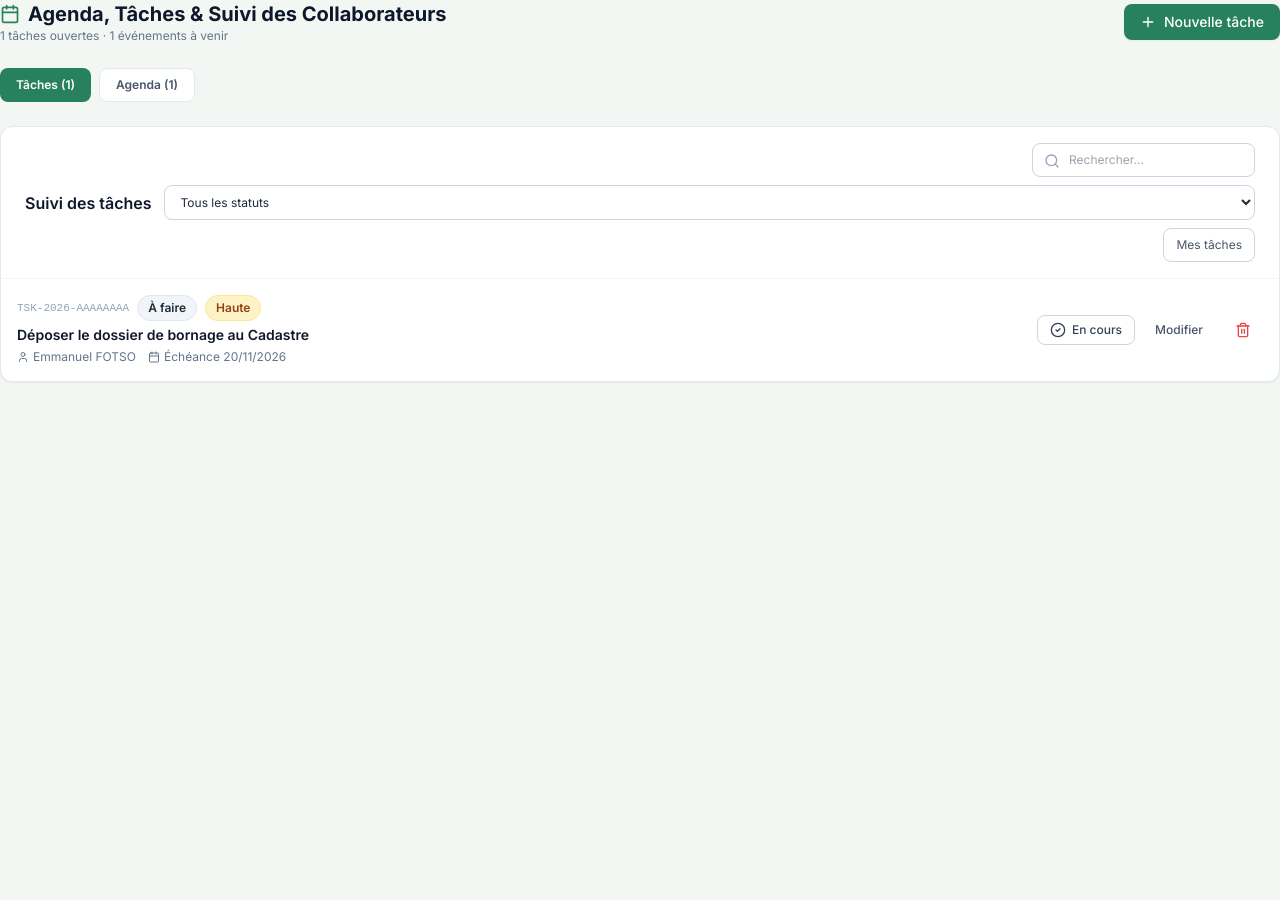
Test: TasksPage en mode connecté › refuse un créneau dont la fin précède le début sans écrire en base
Expected: the text "TSK-2026-AAAAAAAA" is shown, [17,300,129,316]
Click the button "Agenda (1)" at (147, 85), box [99,68,195,102]
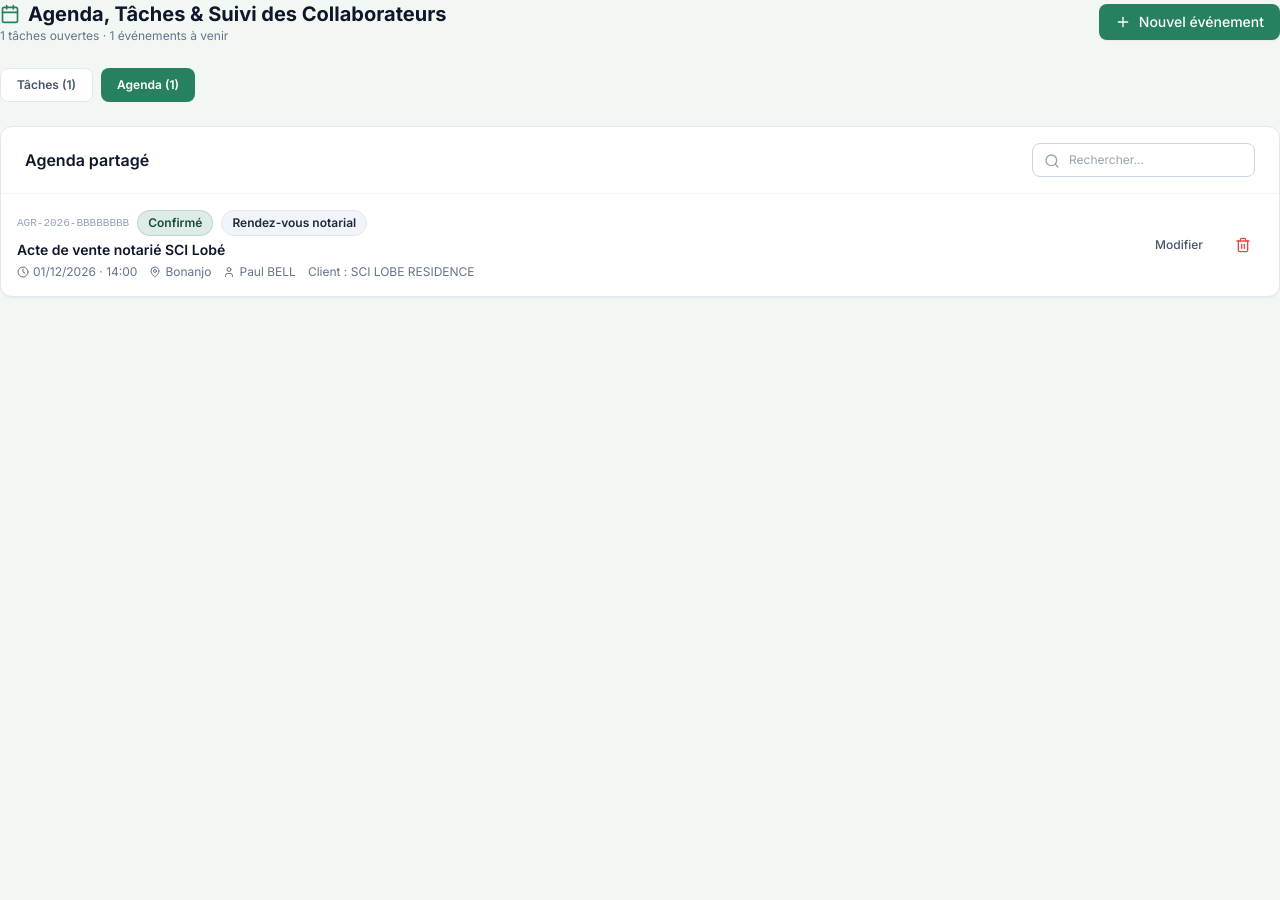
Expected: the text "AGR-2026-BBBBBBBB" is shown, [17,215,129,231]
Click the button "Nouvel événement" at (1189, 22), box [1099,4,1279,40]
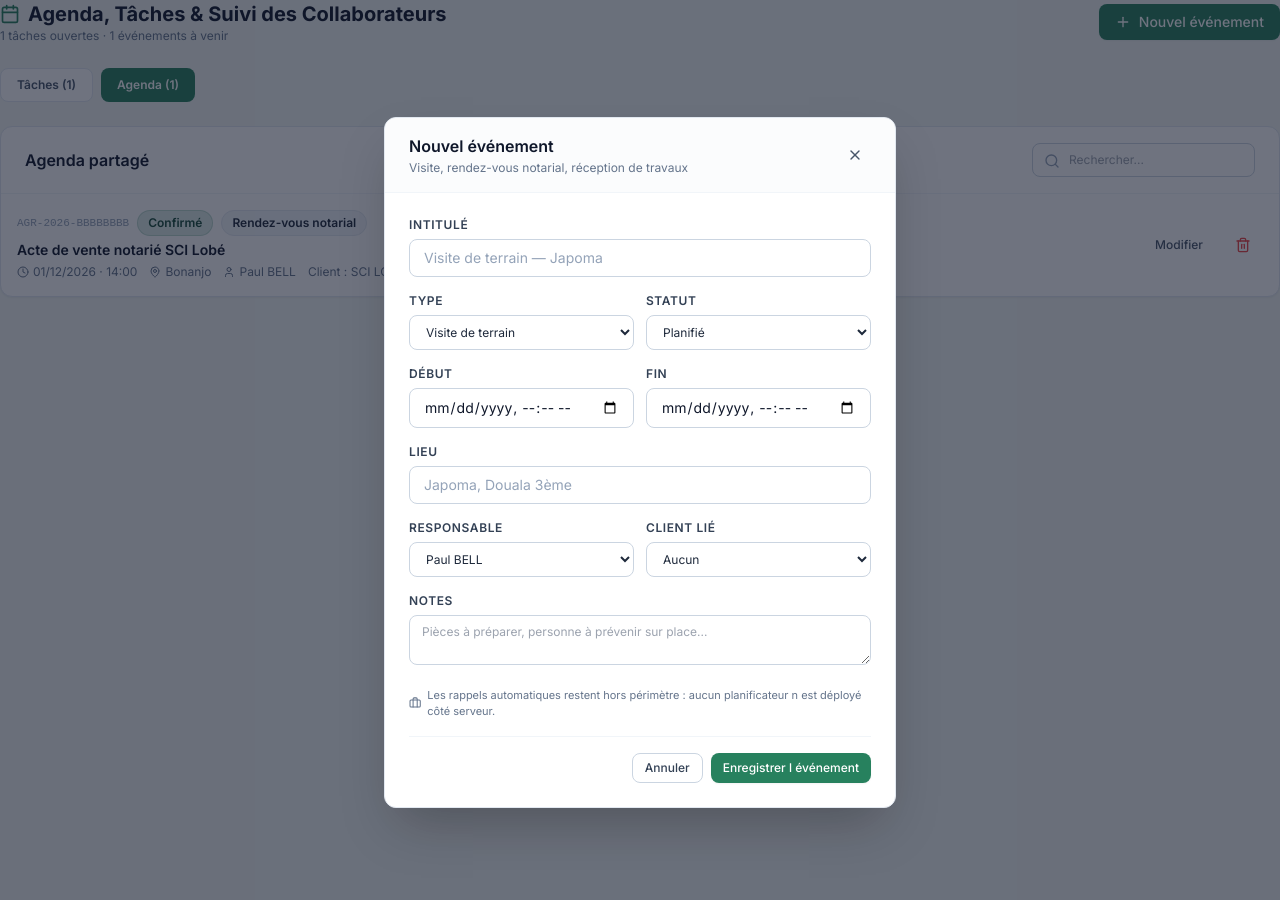
Type "Créneau incohérent" into the field with placeholder "Visite de terrain — Japoma" at (640, 258), box [409,238,871,276]
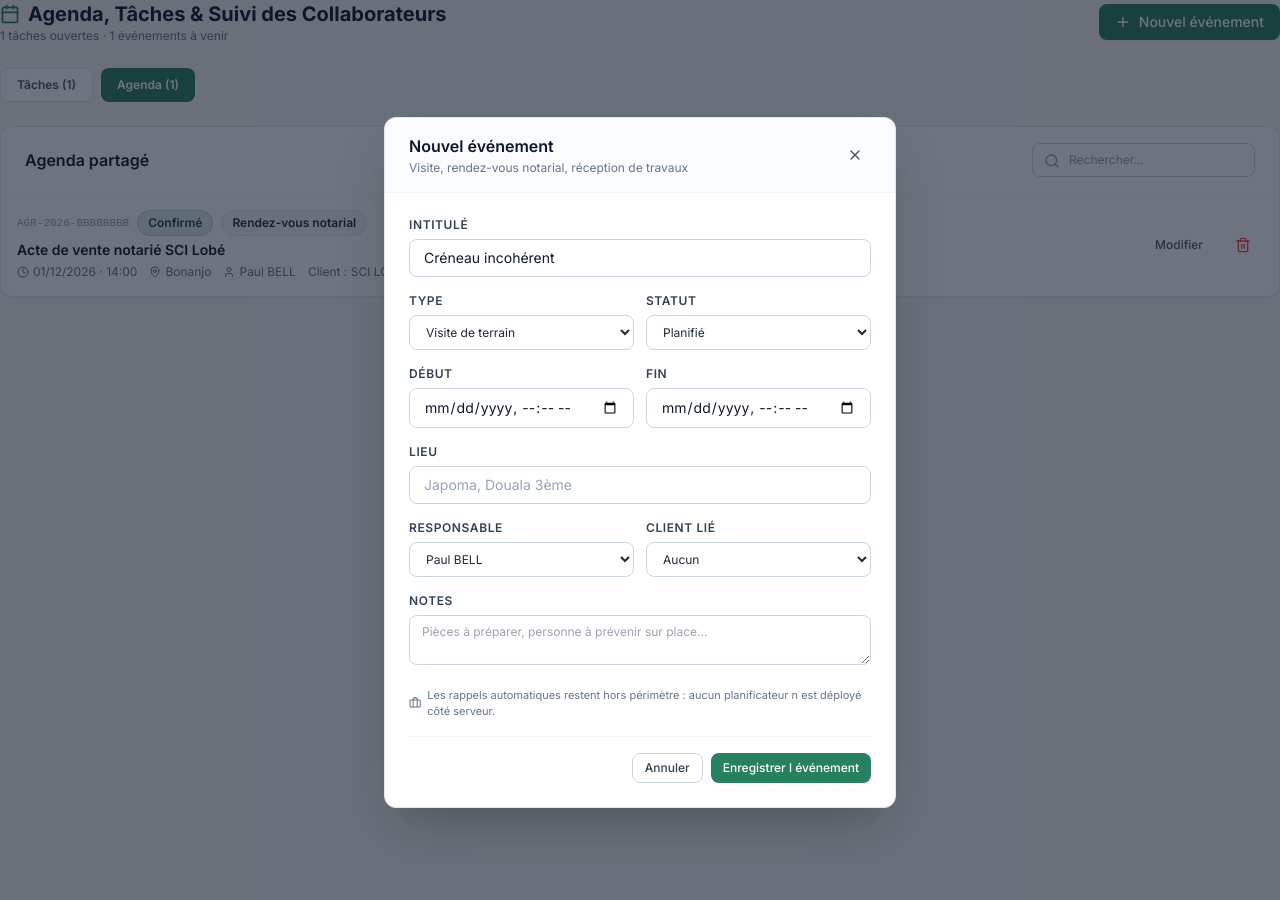
Type "2026-12-05T10:00" into the field labelled "Début" at (522, 408), box [409,388,634,428]
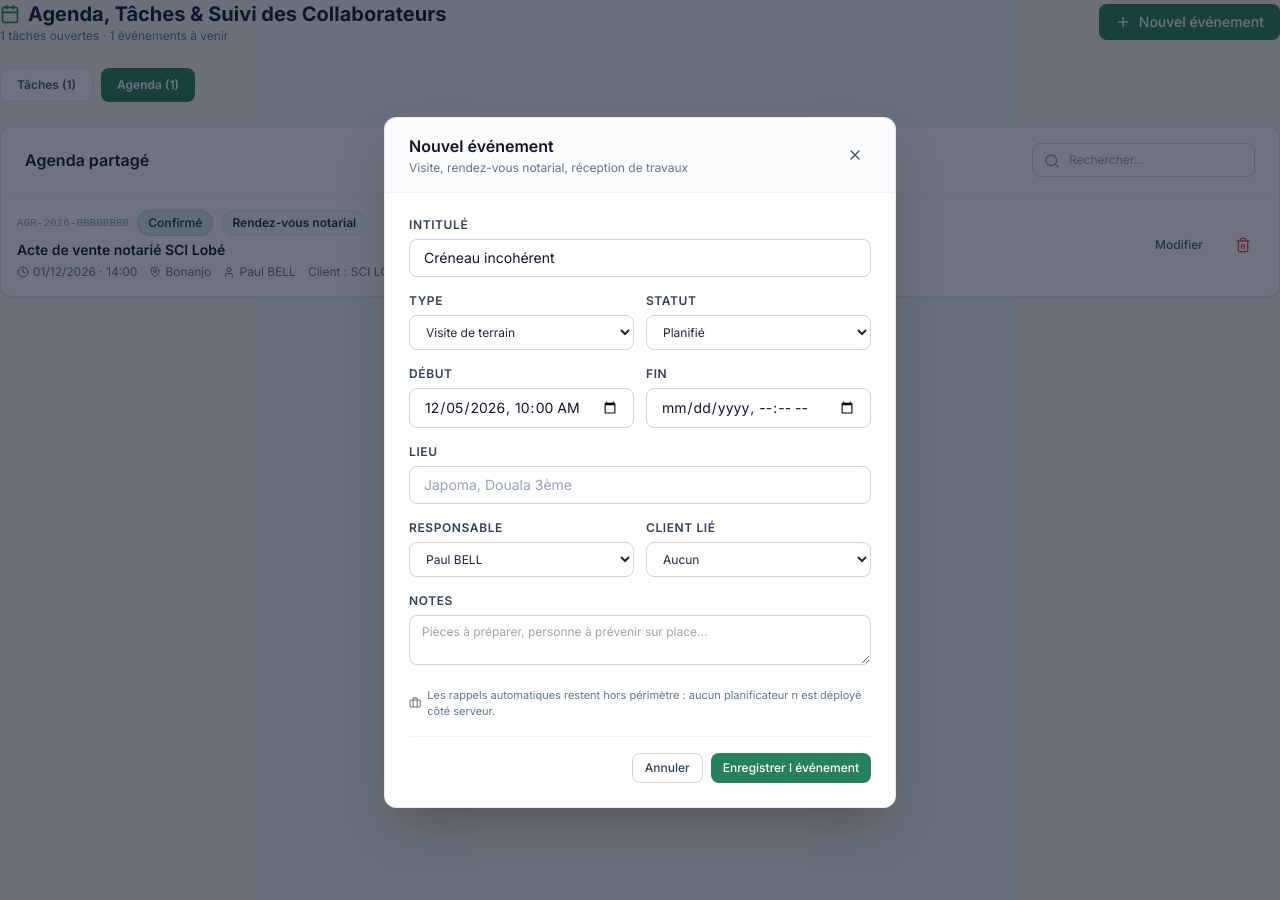
Type "2026-12-05T09:00" into the field labelled "Fin" at (758, 408), box [646,388,871,428]
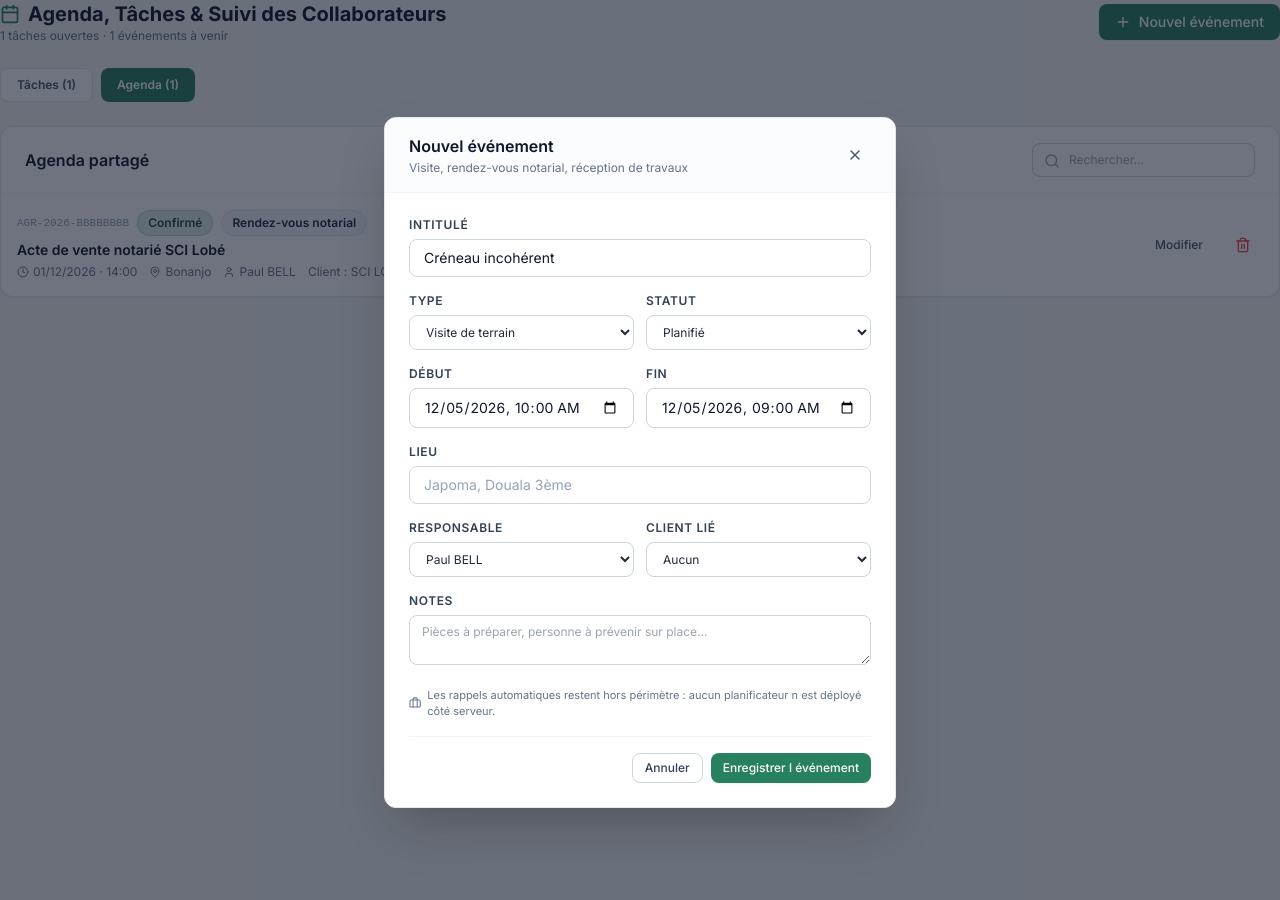
Click the button "Enregistrer l événement" at (791, 768), box [711,752,871,782]
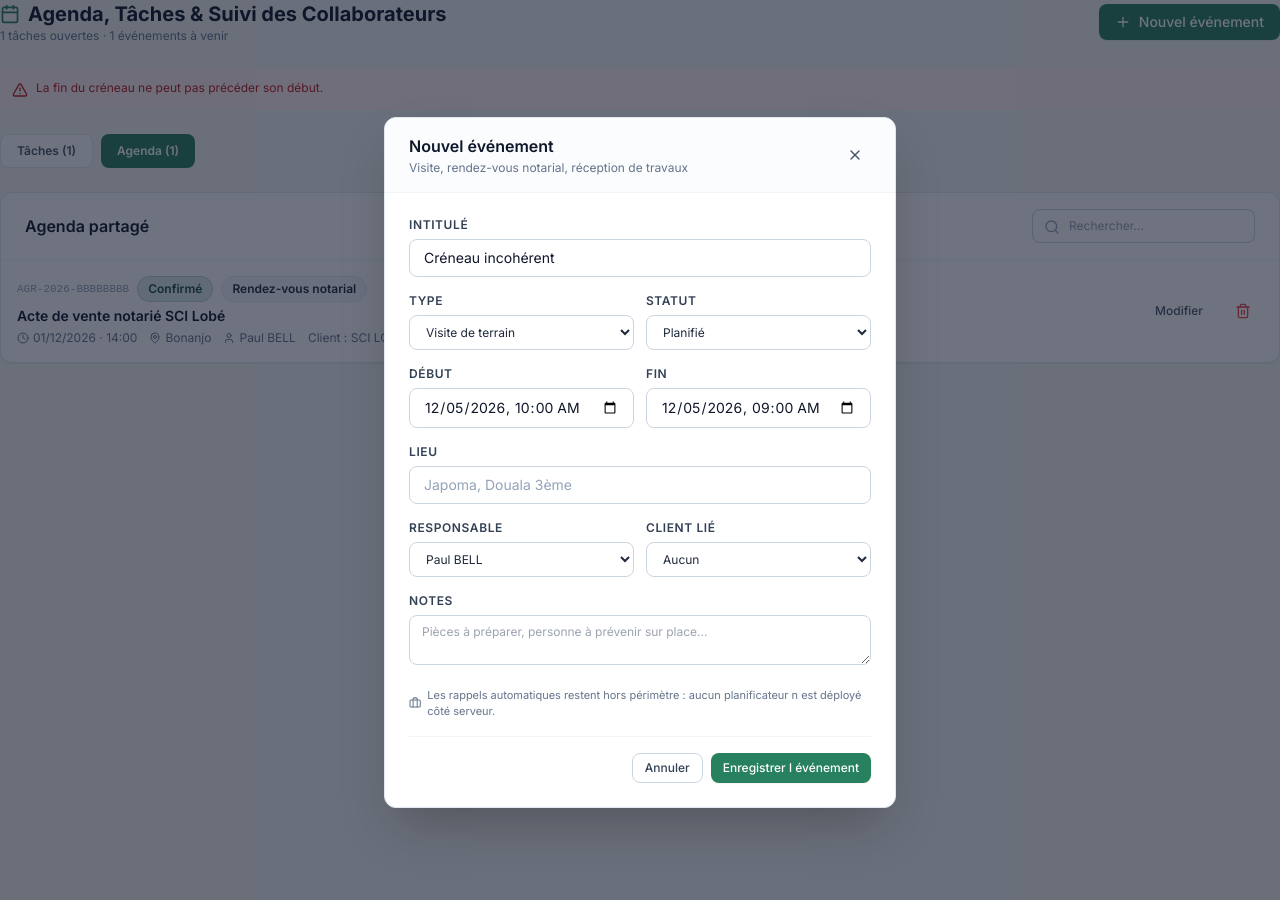
Expected: the message reads "La fin du créneau ne peut pas précéder son début.", [36,80,323,95]
